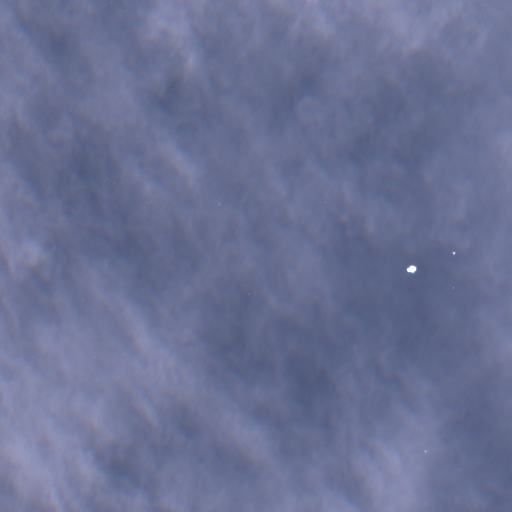Iceberg: (407, 266, 415, 272), (453, 252, 454, 253), (424, 450, 425, 451)
